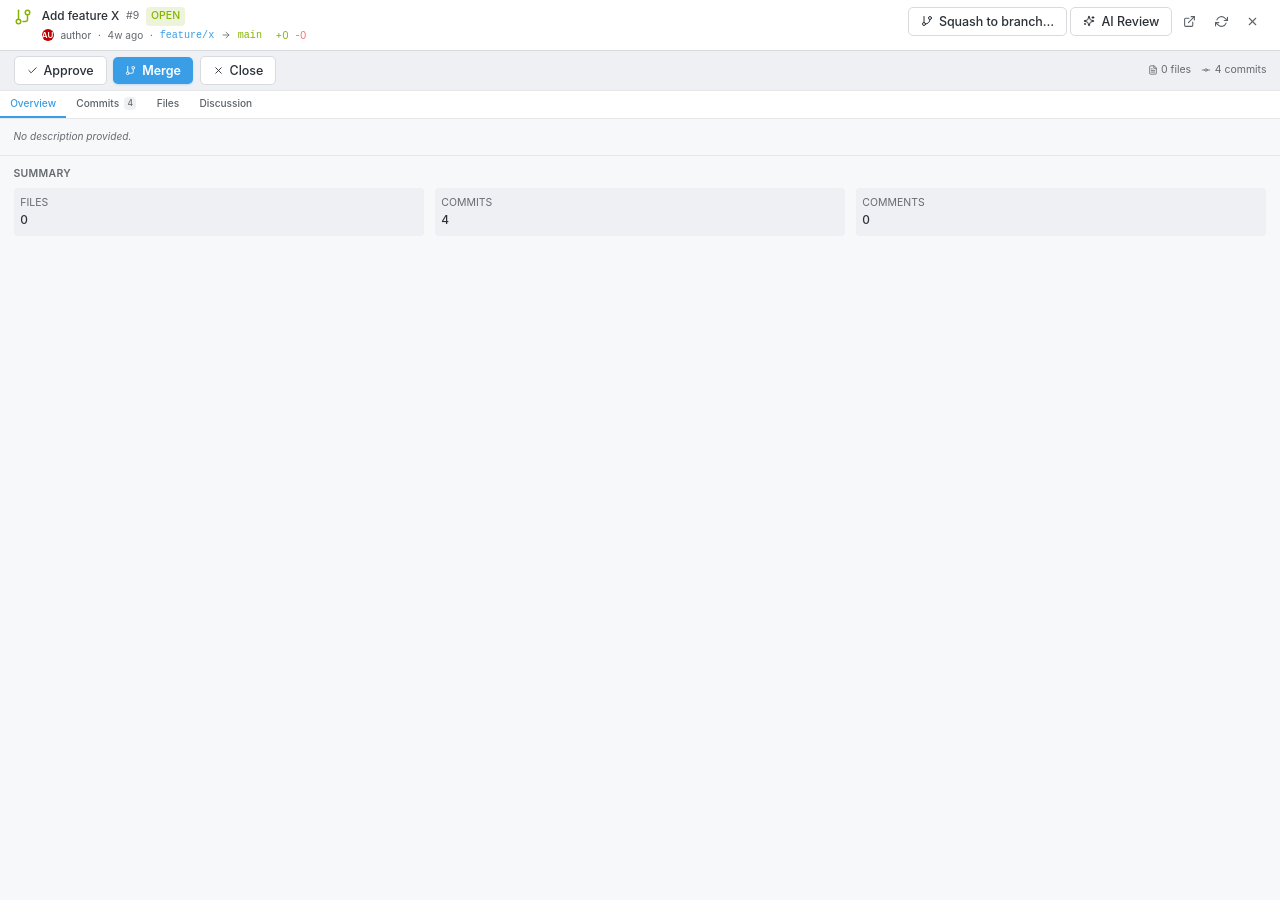
PRReview — Commits tab group squash-to-branch › fetches the PR head ref when commit objects are missing locally
Click the button "Commits 4": (106, 104) [66, 91, 146, 118]
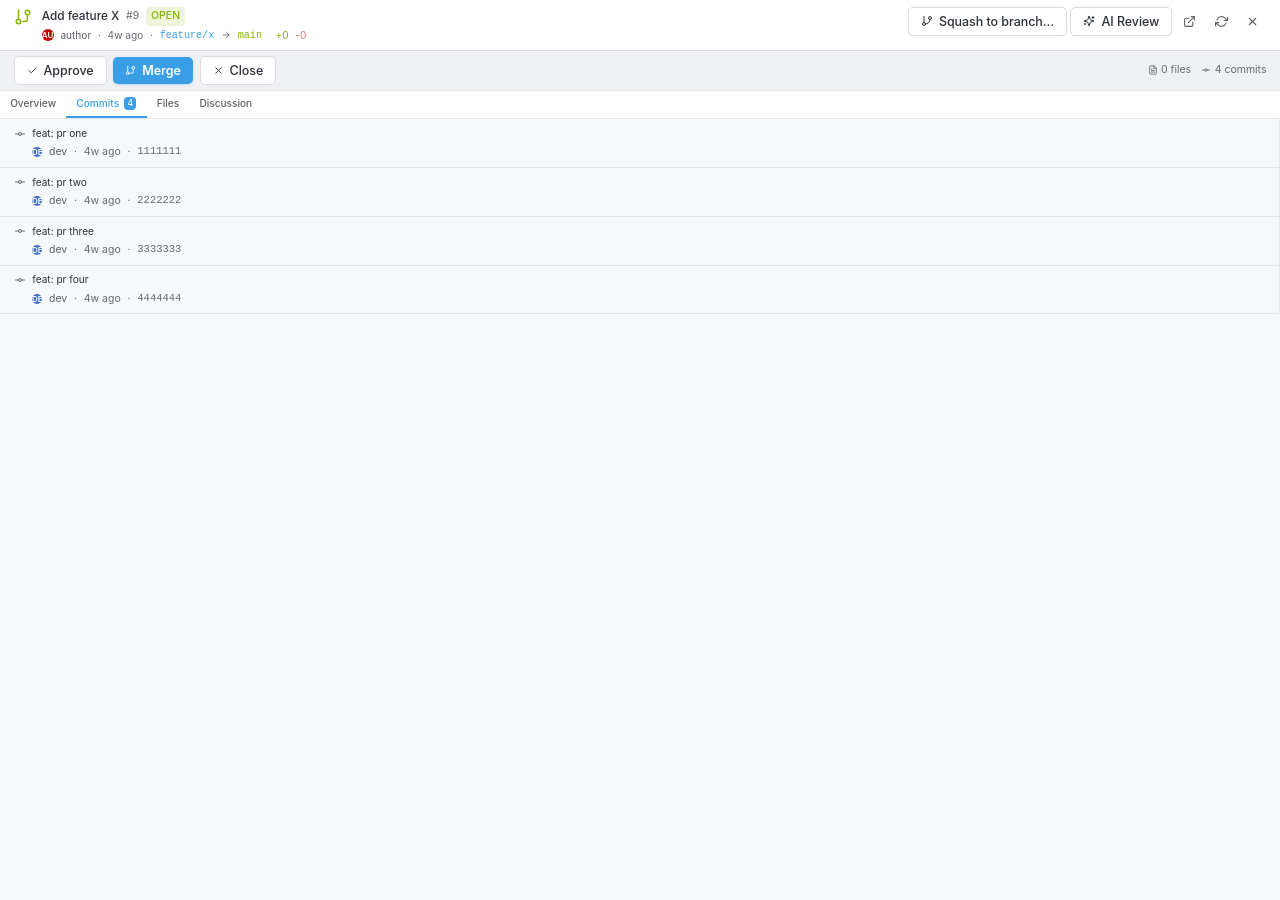
Check: the text "feat: pr one" is shown
Click the text "feat: pr one": (60, 133) [32, 127, 87, 139]
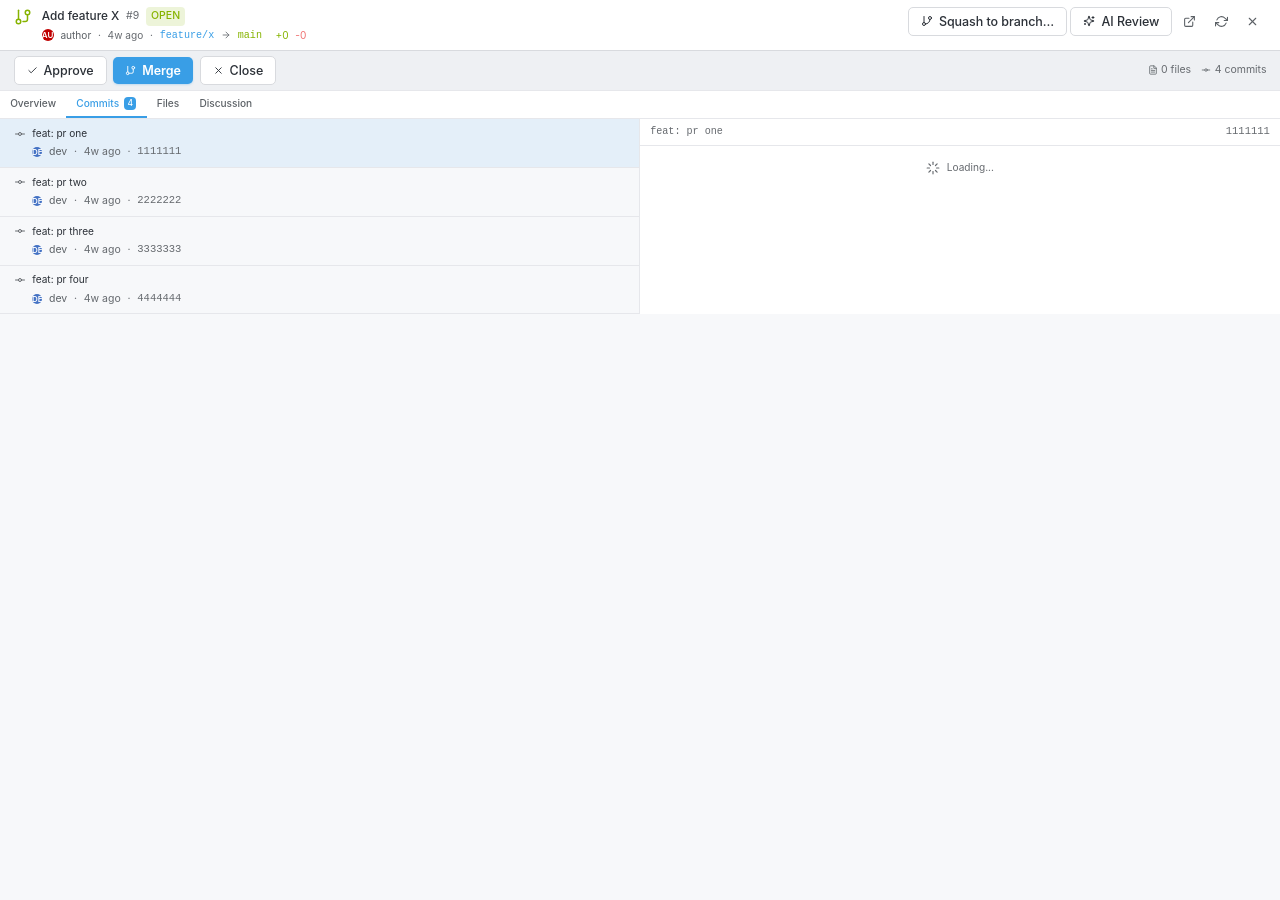
Click the text "feat: pr two": (60, 182) [32, 176, 87, 188]
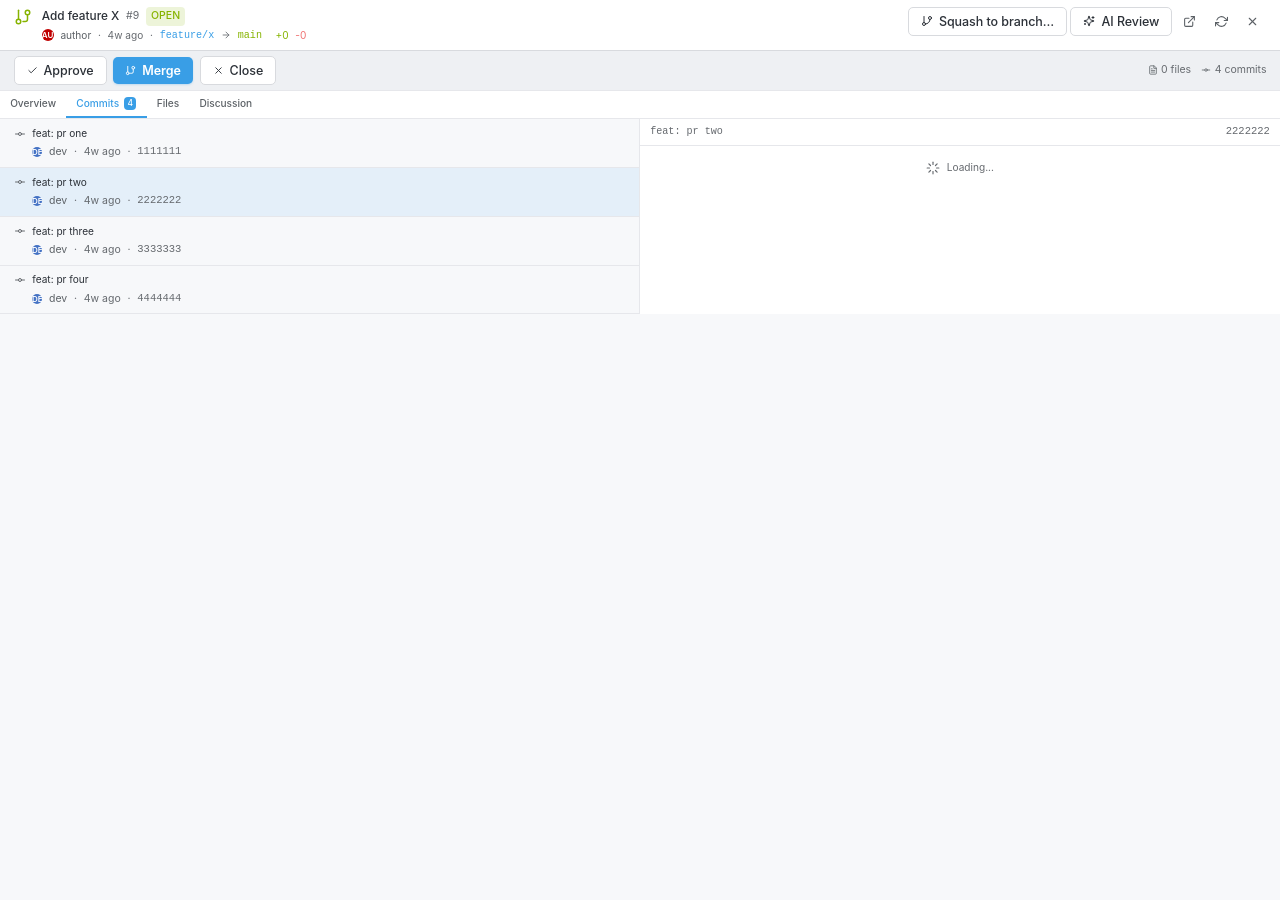
Click the text "feat: pr three": (63, 230) [32, 224, 94, 236]
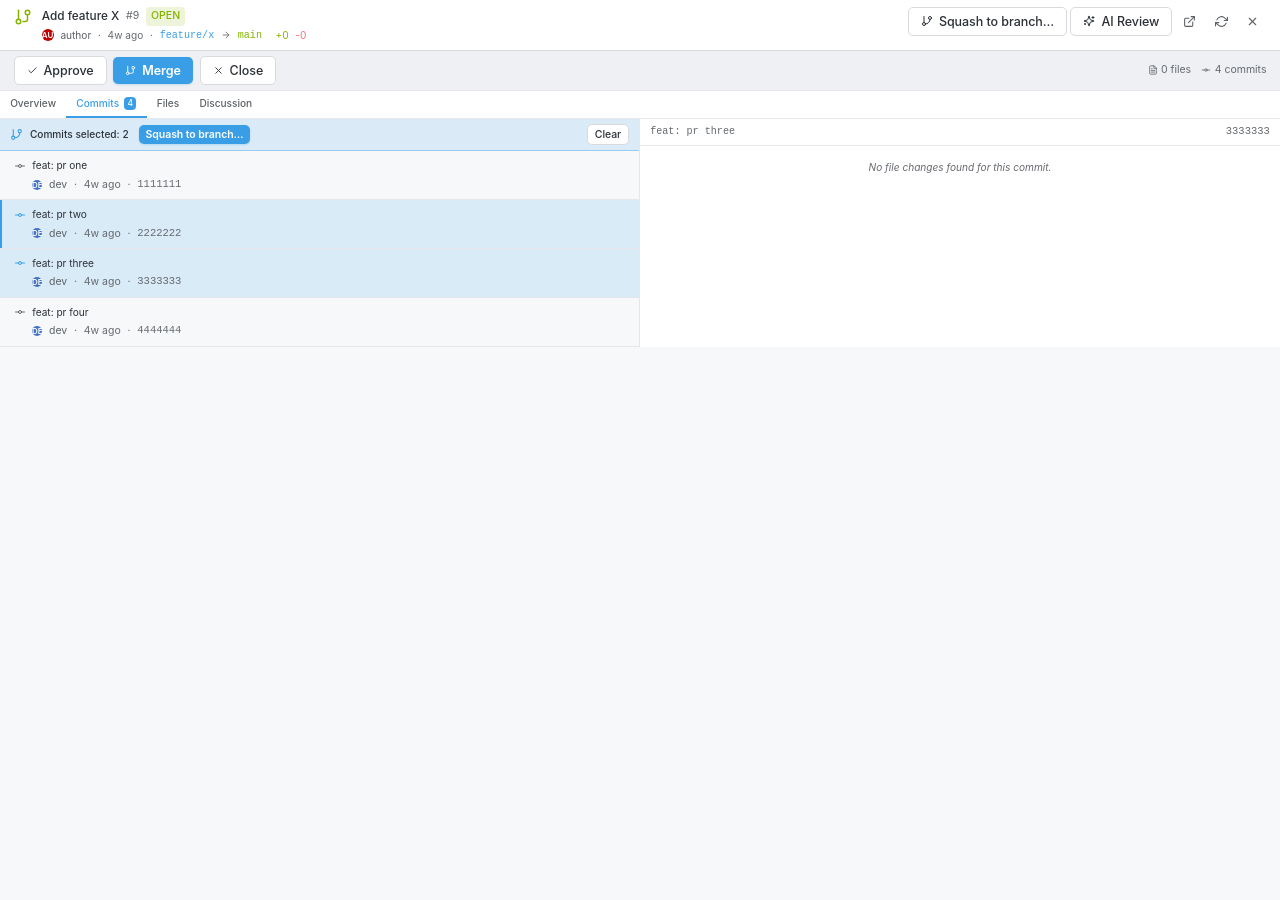
Check: the text "Commits selected: 2" is shown, box [30, 127, 129, 142]
Click the button "Squash to branch…" next to "Commits selected: 2": (195, 135) [139, 125, 250, 144]
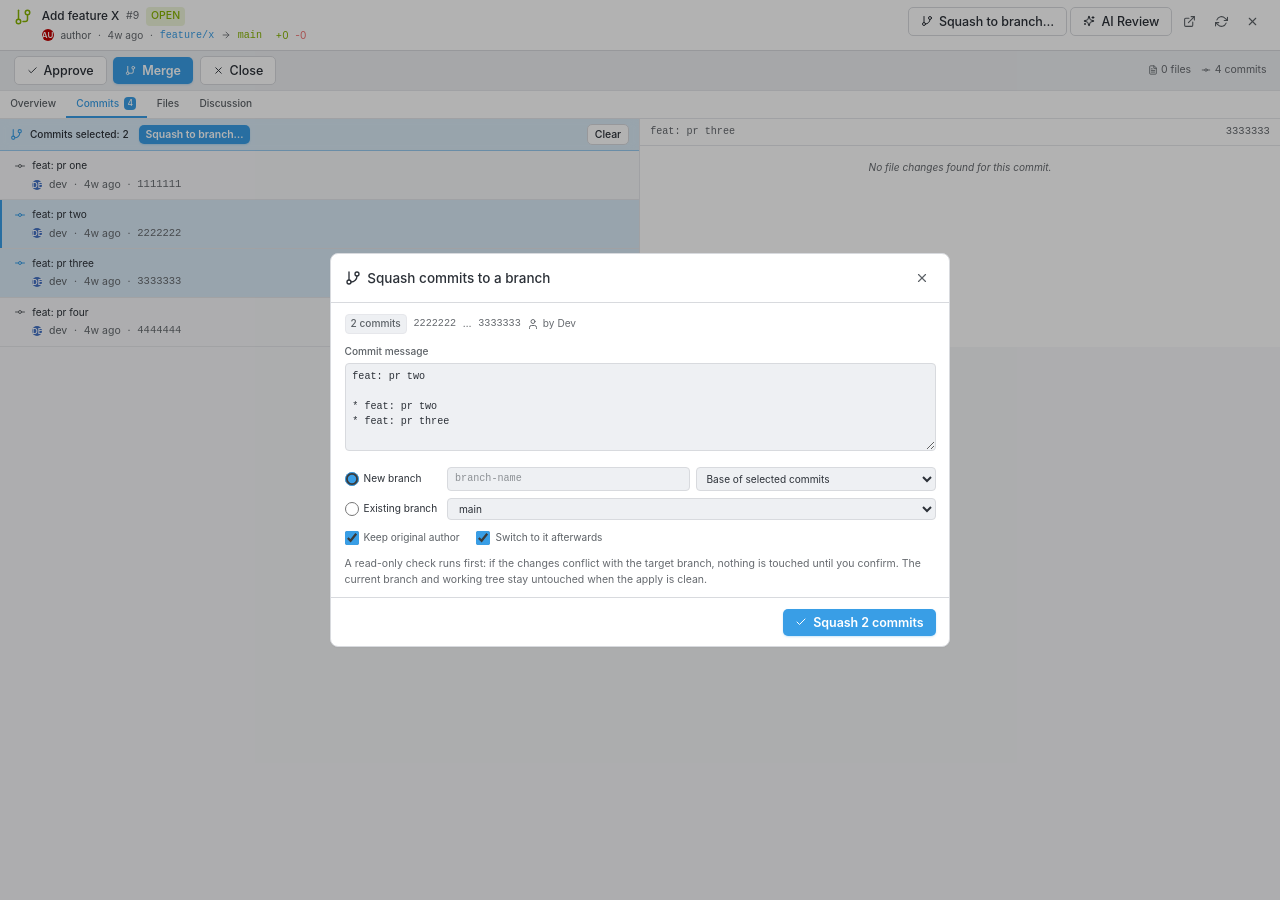
Check: the heading "Squash commits to a branch" is shown, box [344, 268, 550, 288]
